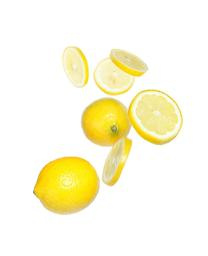lemon: (31, 156, 99, 214), (131, 89, 183, 145), (83, 99, 133, 148), (94, 56, 134, 95), (101, 140, 132, 188), (63, 47, 88, 88), (111, 50, 146, 75)
